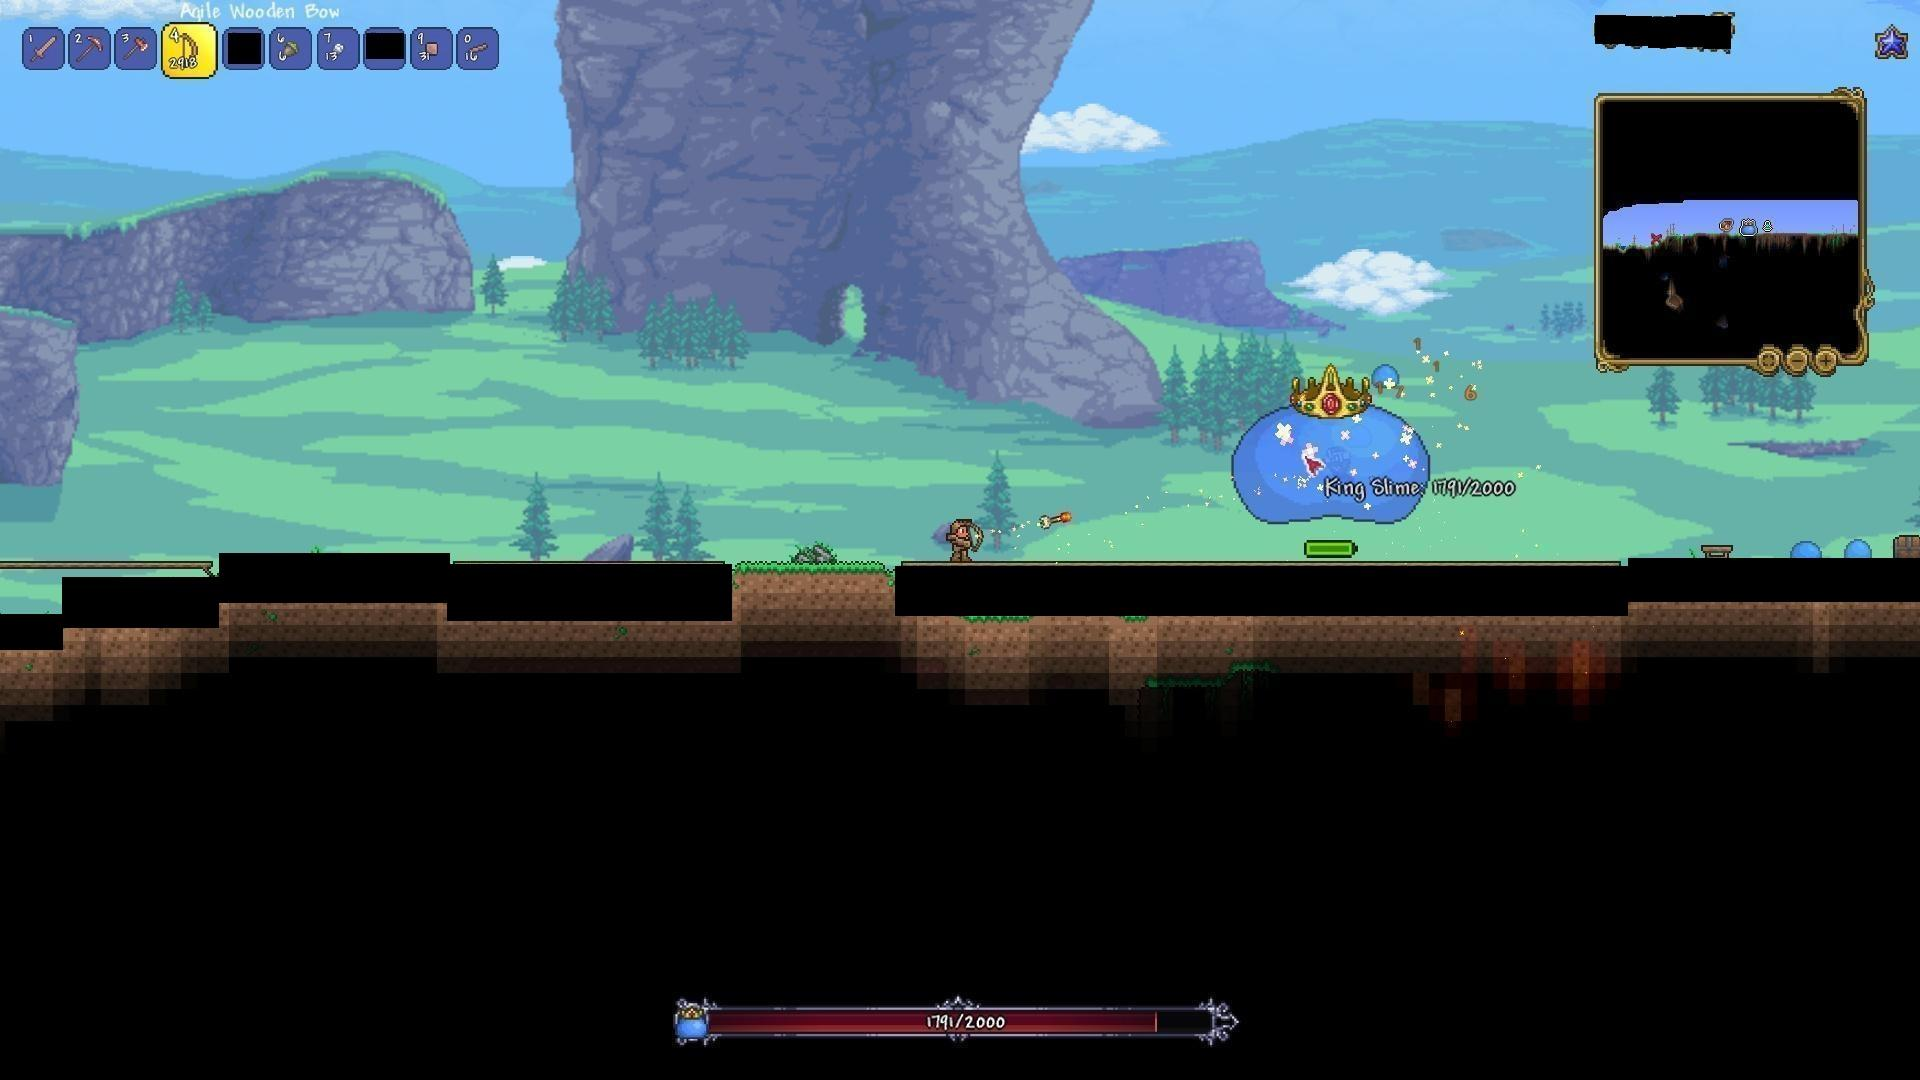dirt: (733, 556, 891, 595)
slime: (1789, 537, 1824, 567), (1841, 535, 1875, 563), (1370, 364, 1400, 386)
workbench: (1696, 541, 1733, 566)
